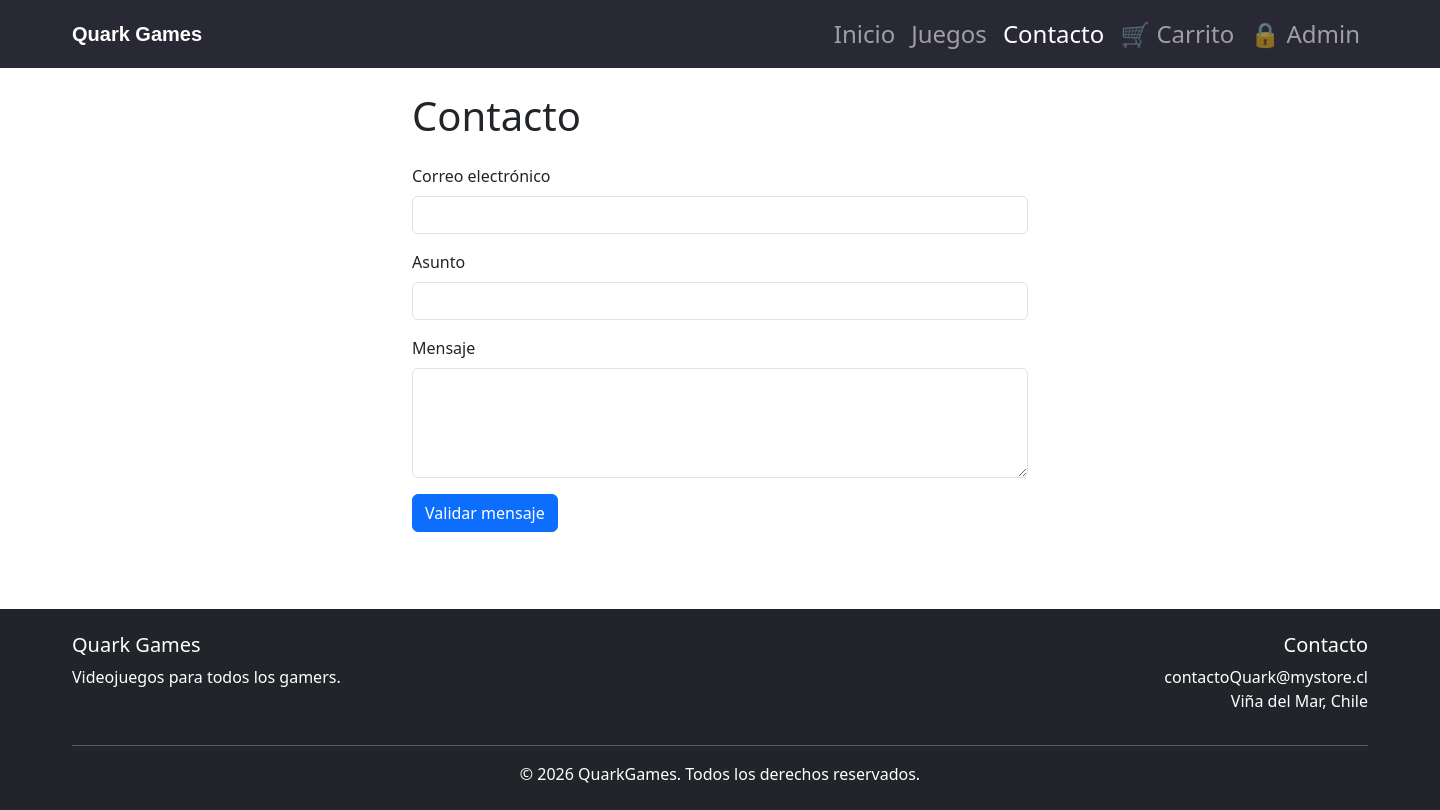
App: integración de rutas, sesión y carrito › muestra un error por campo al enviar Contacto vacío
This screenshot has width=1440, height=810.
Note: 2 Actuar
Click the button "Validar mensaje".
click(485, 513)  # box [412,494,558,532]
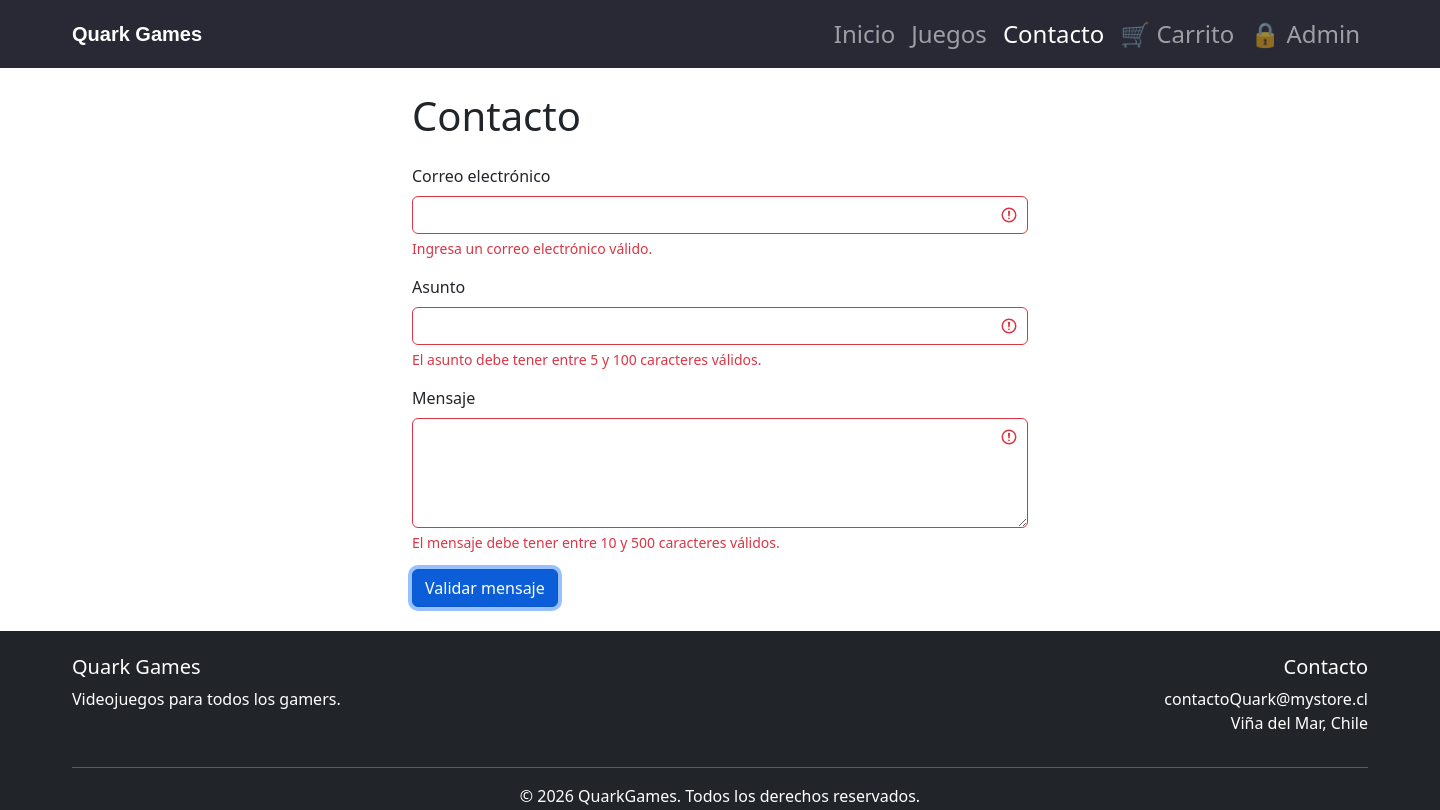
Expected: the text "Ingresa un correo electrónico válido." is shown, [412,239,652,258]
Expected: the text "El asunto debe tener entre 5 y 100 caracteres válidos." is shown, [412,350,762,369]
Expected: the text "El mensaje debe tener entre 10 y 500 caracteres válidos." is shown, [412,533,780,552]
